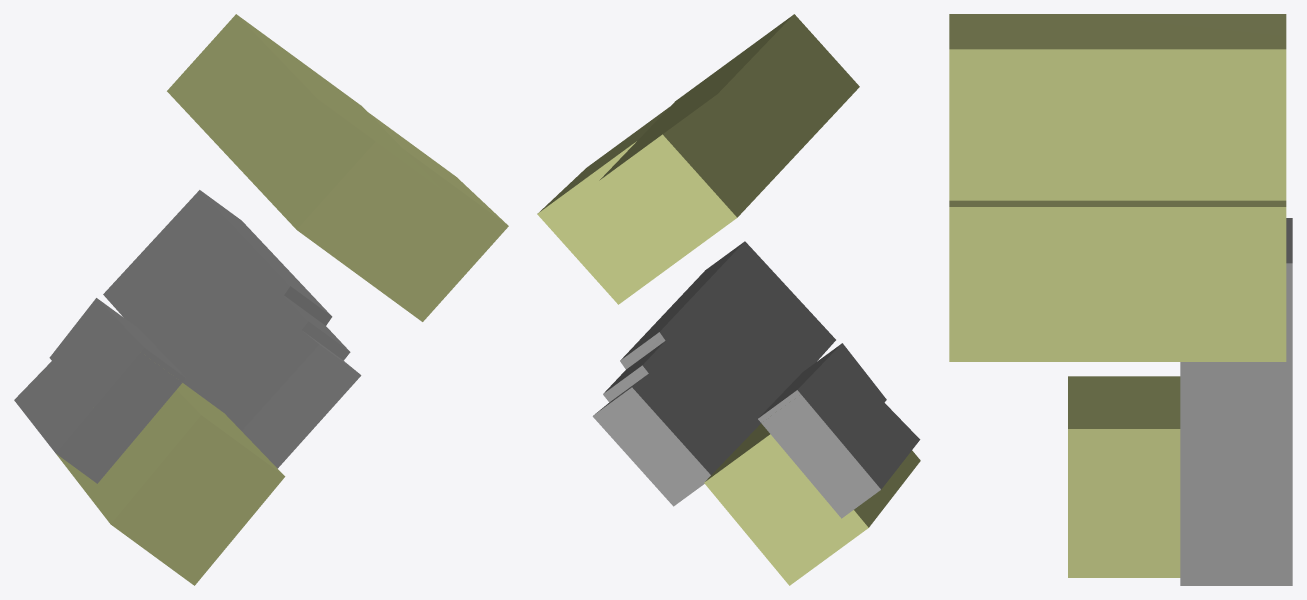
3 renders of one model, left to right at view 1: azimuth 30°, elevation 25°; view 2: azimuth 150°, elevation 25°; view 3: azimuth 270°, elevation 25°, orthographic. The views are drawn at different scales.
Parts seen in each view (by area): view 1: 0_1_1_3_2_2_3_3_3_2; view 2: 0_1_1_3_2_2_3_3_3_2; view 3: 0_1_1_3_2_2_3_3_3_2.
Boxes of the visible parts, x1,y1,x2,y2 form: 0_1_1_3_2_2_3_3_3_2: [14, 14, 508, 585]; 0_1_1_3_2_2_3_3_3_2: [537, 14, 920, 585]; 0_1_1_3_2_2_3_3_3_2: [949, 14, 1292, 585].
Bounding box in the file's own units: 15.11 × 18.99 × 9.17.
